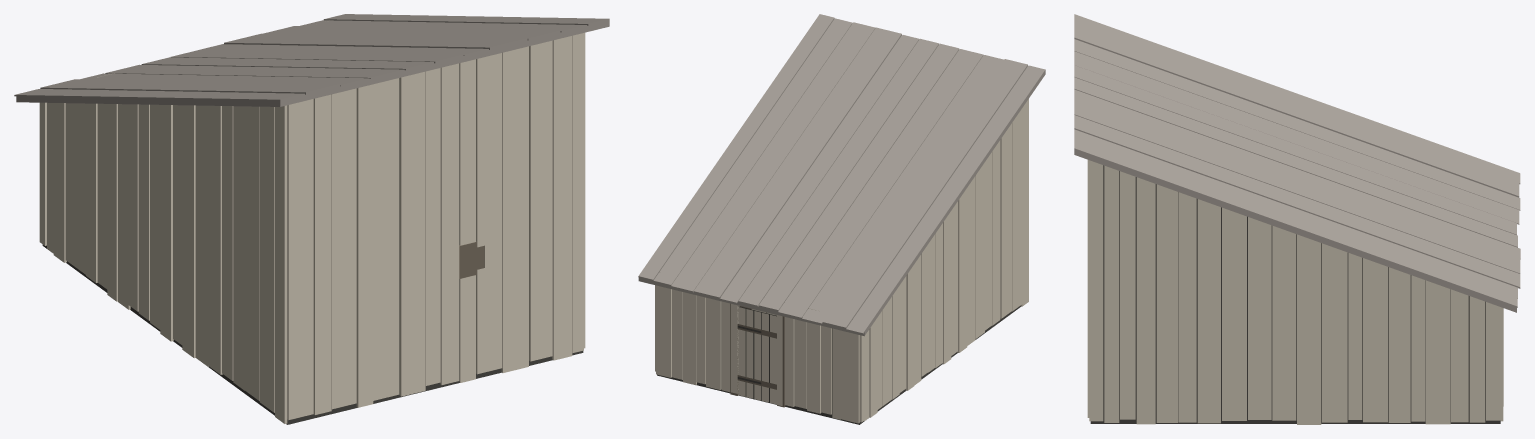
File: recon_1835_blk_west_washington_canal_d2_06__inferred_1835.glb
The picture shows the model from 3 angles, left to right: view 1: azimuth 30°, elevation 25°; view 2: azimuth 150°, elevation 25°; view 3: azimuth 270°, elevation 25°; orthographic projection. The views are drawn at different scales.
Visible parts, largest first — view 1: recon_1835_blk_west_washington_canal_d2_06__inferred_1835; view 2: recon_1835_blk_west_washington_canal_d2_06__inferred_1835; view 3: recon_1835_blk_west_washington_canal_d2_06__inferred_1835.
Boxes of the visible parts, left/top/right/bottom form: recon_1835_blk_west_washington_canal_d2_06__inferred_1835: left=14, top=14, right=609, bottom=424; recon_1835_blk_west_washington_canal_d2_06__inferred_1835: left=638, top=14, right=1045, bottom=424; recon_1835_blk_west_washington_canal_d2_06__inferred_1835: left=1074, top=14, right=1520, bottom=424.
Size of the model in its own units: 4.94 by 4.84 by 6.92.
